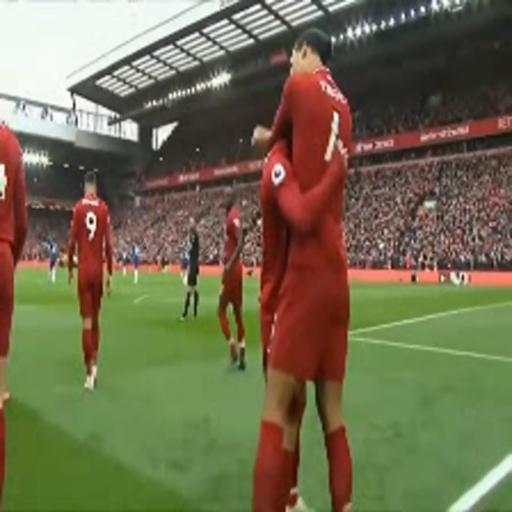nao-violencia: (238, 17, 362, 512)
